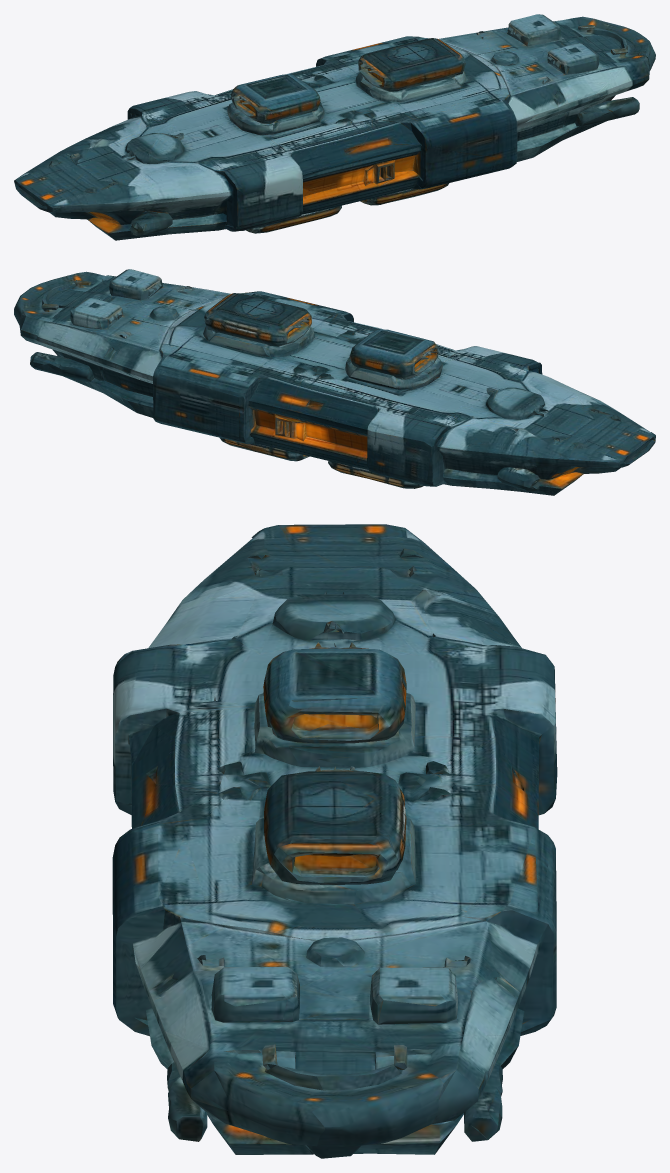
The model's file is nation-p-carrier.glb.
The picture shows the model from 3 angles, top to bottom: view 1: azimuth 30°, elevation 25°; view 2: azimuth 150°, elevation 25°; view 3: azimuth 270°, elevation 25°; orthographic projection. The views are drawn at different scales.
Size of the model in its own units: 1.89 by 0.3937 by 0.5909.
Materials: 1 (1 with a texture image).
